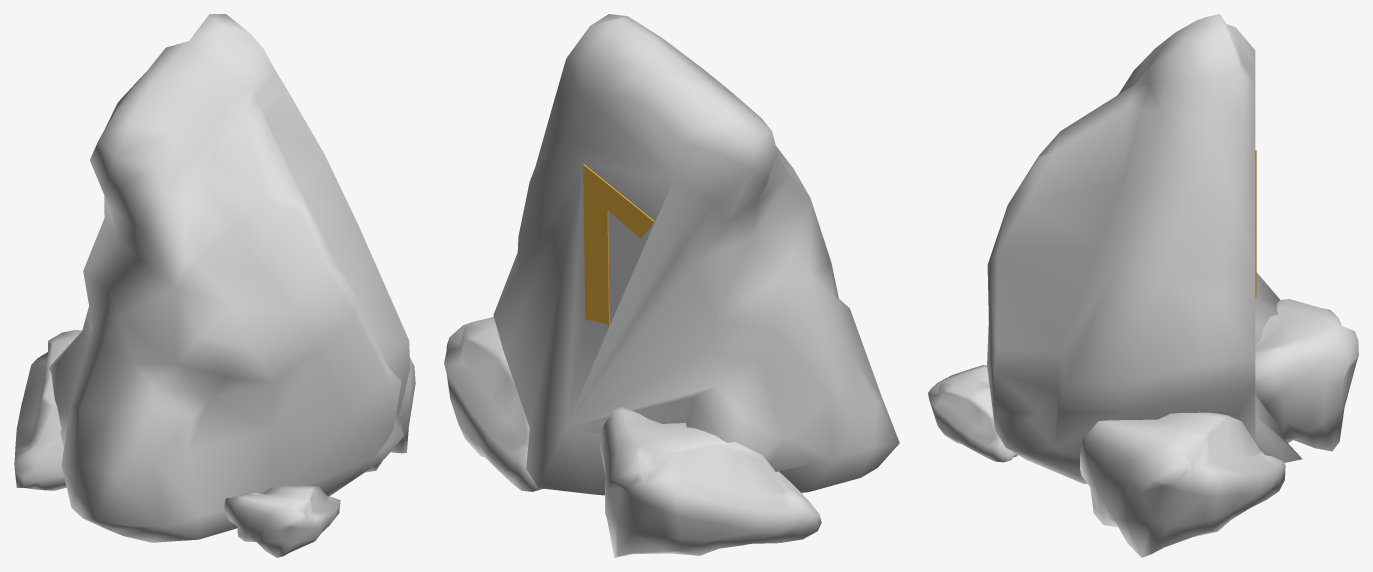
The model's file is Laguz.fbx.
3 renders of one model, left to right at view 1: azimuth 30°, elevation 25°; view 2: azimuth 150°, elevation 25°; view 3: azimuth 270°, elevation 25°, orthographic. The views are drawn at different scales.
Parts seen in each view (by area): view 1: stone; view 2: stone, Laguz; view 3: stone.
Part boxes in pixels (bbox=[...]): stone: bbox=[14, 14, 415, 557]; stone: bbox=[444, 14, 899, 557]; Laguz: bbox=[583, 164, 654, 324]; stone: bbox=[928, 14, 1358, 557].
Bounding box in the file's own units: 155 × 181 × 152.
